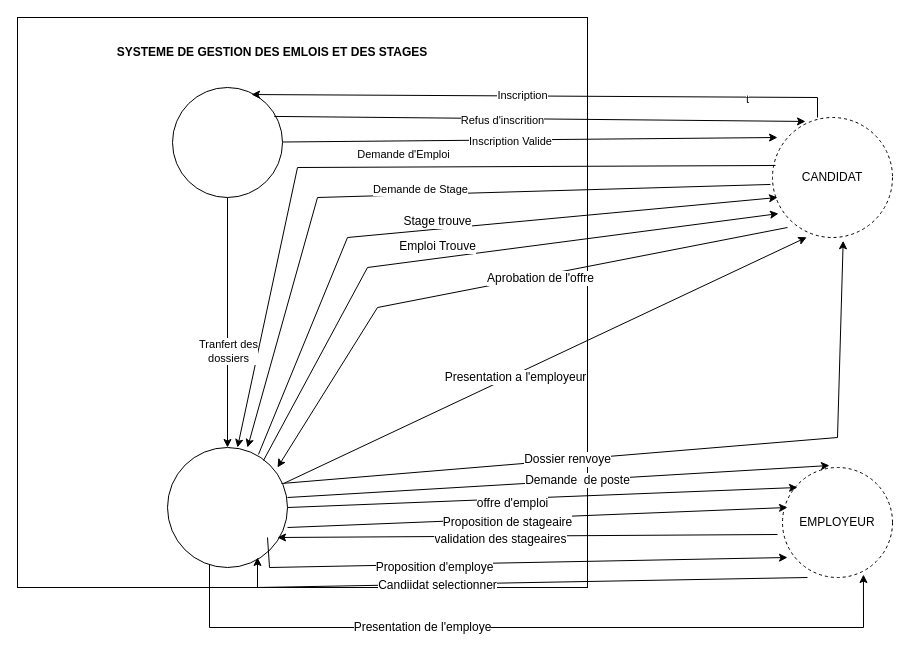
Image size: 910x653. Some labels were removed from this diagram. Here are the shapes that lost their labels. From the top down, the box of each, then its label:
(172, 86, 282, 198): SERVICE D'INSCRIPTION
(166, 446, 288, 568): SERVICE D'EMPLOI
